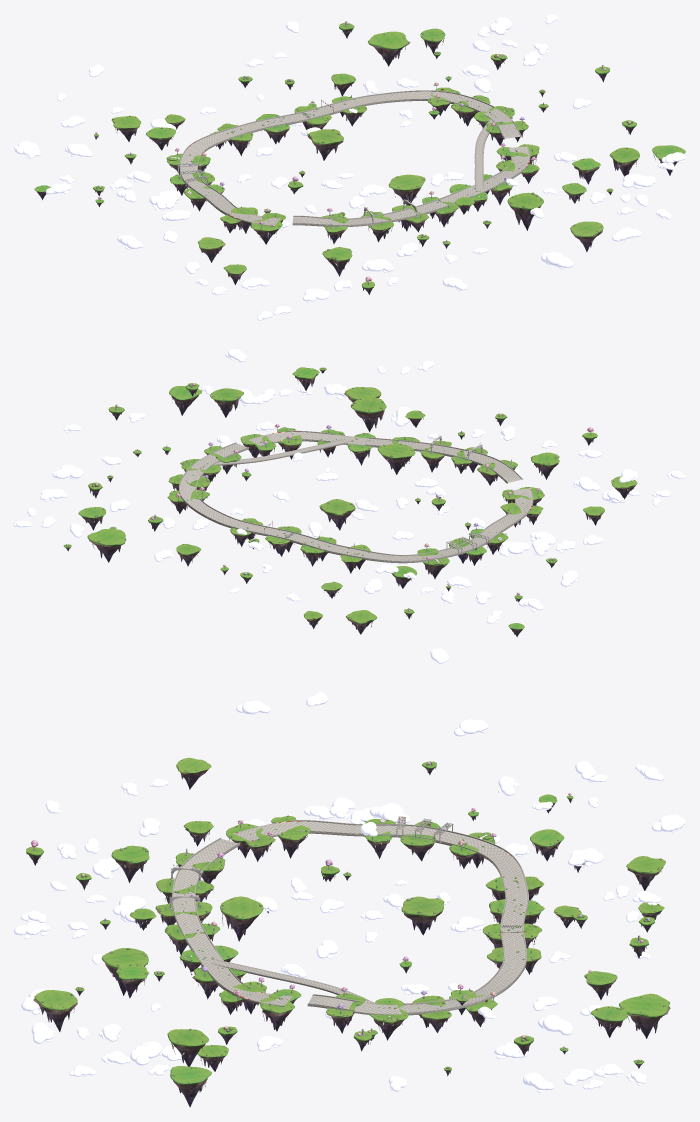
The model's file is jardim-celeste.glb.
3 renders of one model, top to bottom at view 1: azimuth 30°, elevation 25°; view 2: azimuth 150°, elevation 25°; view 3: azimuth 270°, elevation 25°, orthographic. The views are drawn at different scales.
Visible parts, largest first — view 1: sec4_props, sec1_props, sec6_props, sec5_props, sec9_props, sec3_props, sec10_props, sec8_props, sec7_props, sec0_props, sec11_props, sec2_props (+12 smaller); view 2: sec4_props, sec1_props, sec9_props, sec10_props, sec3_props, sec5_props, sec6_props, sec8_props, sec7_props, sec0_props, sec11_props, sec2_props (+12 smaller); view 3: sec4_props, sec1_props, sec3_props, sec6_props, sec10_props, sec5_props, sec9_props, sec7_props, sec8_props, sec0_props, sec11_props, sec2_props (+12 smaller).
Boxes of the visible parts, <box> form: sec4_props: <box>430,152,685,251</box>; sec1_props: <box>363,17,541,128</box>; sec6_props: <box>321,180,467,294</box>; sec5_props: <box>359,174,572,269</box>; sec9_props: <box>23,143,287,208</box>; sec3_props: <box>399,109,685,203</box>; sec10_props: <box>14,64,253,183</box>; sec8_props: <box>110,146,305,273</box>; sec7_props: <box>196,204,329,320</box>; sec0_props: <box>256,21,366,129</box>; sec11_props: <box>200,58,353,179</box>; sec2_props: <box>428,14,609,128</box>; sec4_props: <box>225,349,386,481</box>; sec1_props: <box>14,464,243,562</box>; sec9_props: <box>392,530,557,636</box>; sec10_props: <box>304,543,471,663</box>; sec3_props: <box>169,383,304,502</box>; sec5_props: <box>347,360,464,511</box>; sec6_props: <box>396,413,602,509</box>; sec8_props: <box>415,469,638,586</box>; sec7_props: <box>435,470,685,528</box>; sec0_props: <box>148,467,330,593</box>; sec11_props: <box>240,499,363,601</box>; sec2_props: <box>63,404,251,491</box>; sec4_props: <box>31,929,306,1076</box>; sec1_props: <box>447,983,670,1092</box>; sec3_props: <box>148,910,383,1107</box>; sec6_props: <box>14,840,344,938</box>; sec10_props: <box>435,760,685,928</box>; sec5_props: <box>20,893,337,1014</box>; sec9_props: <box>369,719,607,909</box>; sec7_props: <box>45,757,314,901</box>; sec8_props: <box>236,692,395,881</box>; sec0_props: <box>395,880,660,999</box>; sec11_props: <box>365,885,654,942</box>; sec2_props: <box>353,956,495,1091</box>.
Bounding box in the file's own units: 686 × 119 × 599.
Materials: 20 (8 with a texture image).
